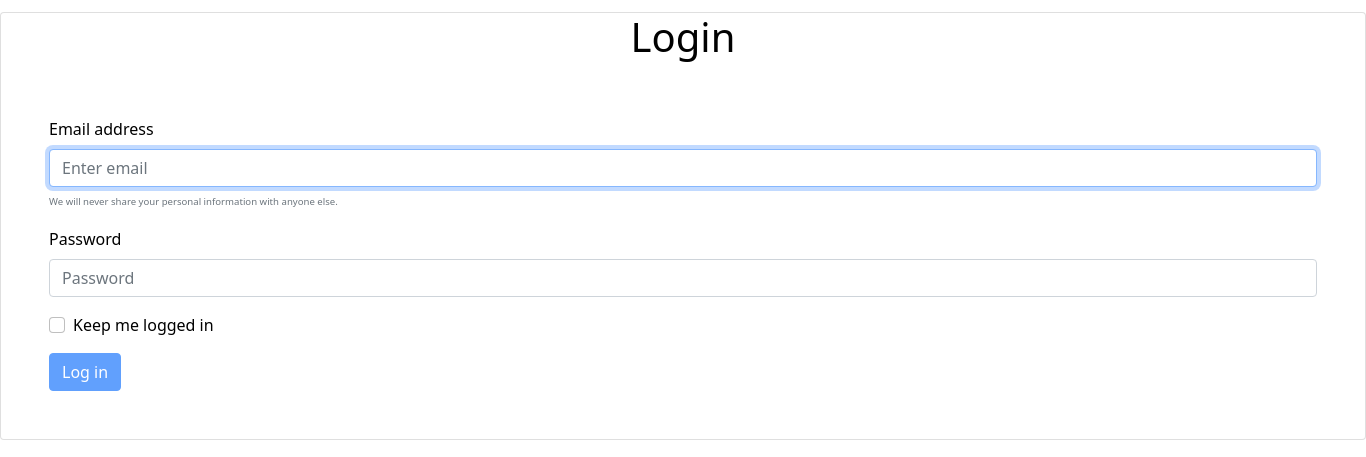
Test: LoginForm › button initally disabled & only actives when valid email is input in form
This screenshot has width=1366, height=457.
Type "a" into the field with placeholder "Enter email" at (683, 168), box [49, 149, 1317, 187]
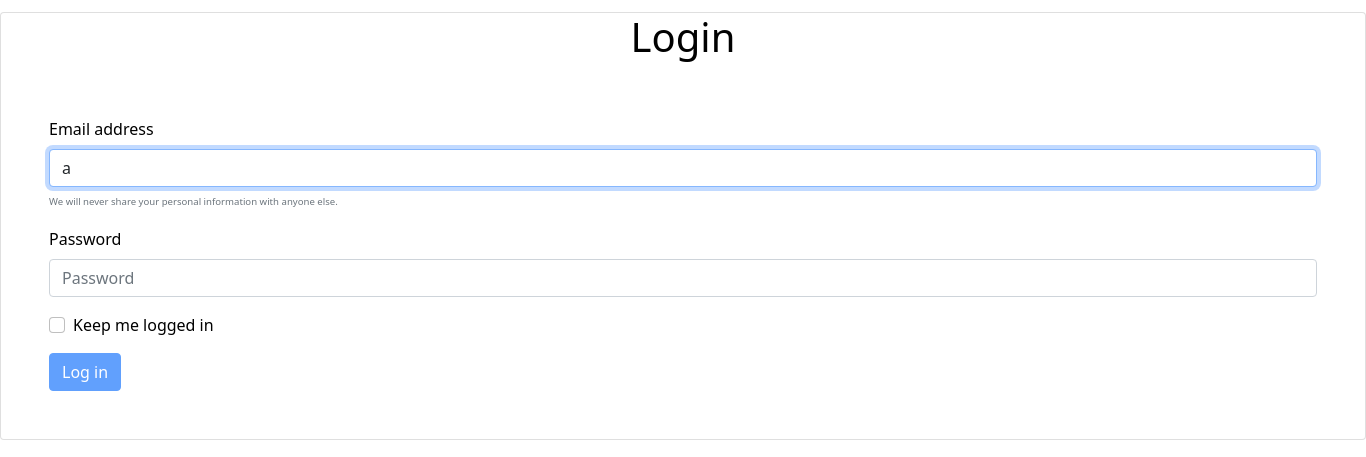
Type "a" into the password field with placeholder "Password" at (683, 278), box [49, 259, 1317, 297]
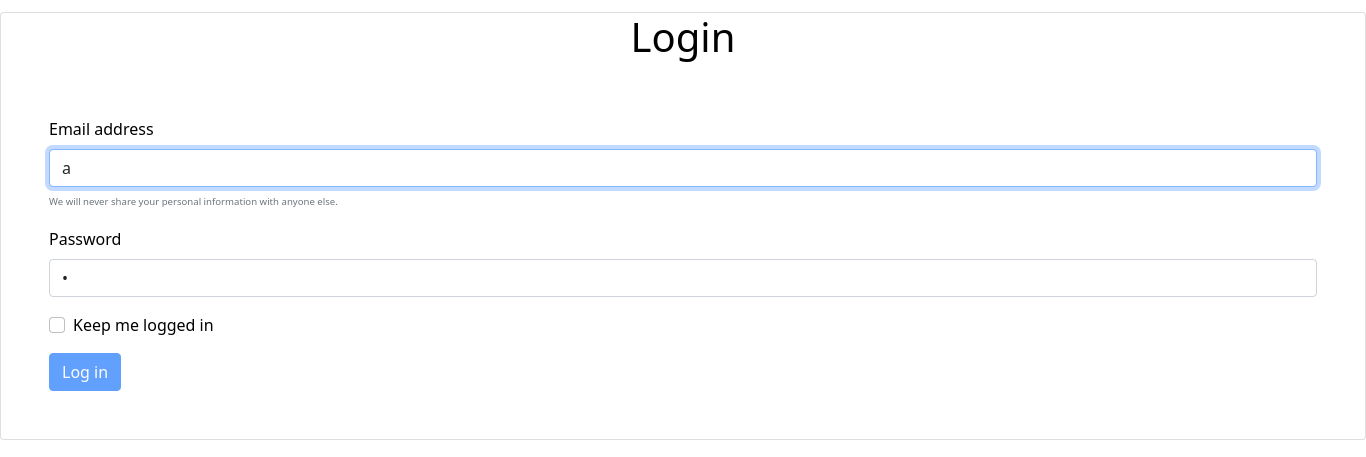
Replace the text in the field with placeholder "Enter email" with "a@a.com" at (683, 168), box [49, 149, 1317, 187]
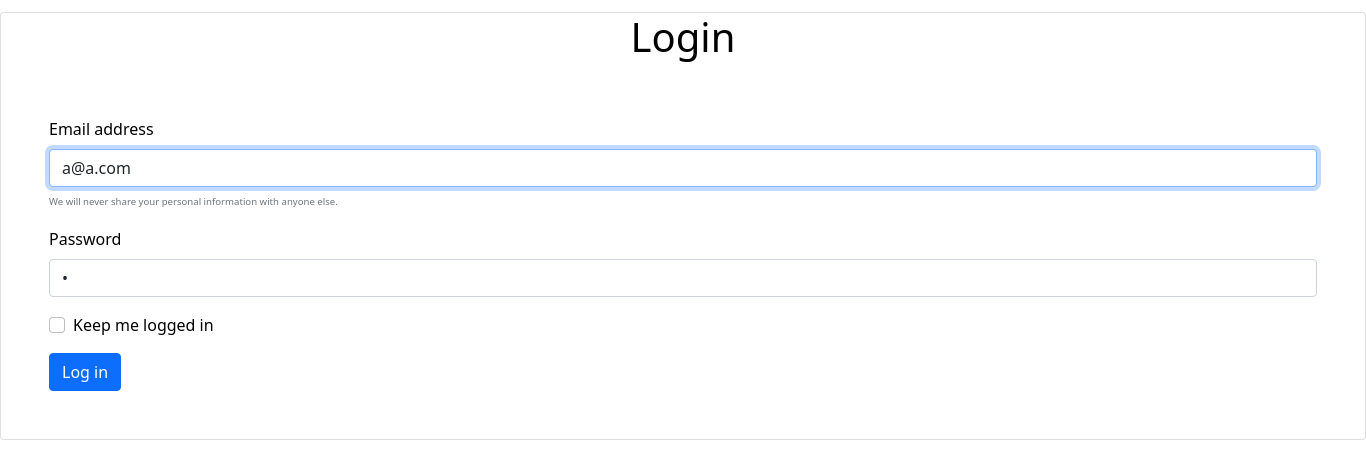
Expected: the button "Log in" is enabled, [49, 353, 121, 391]
